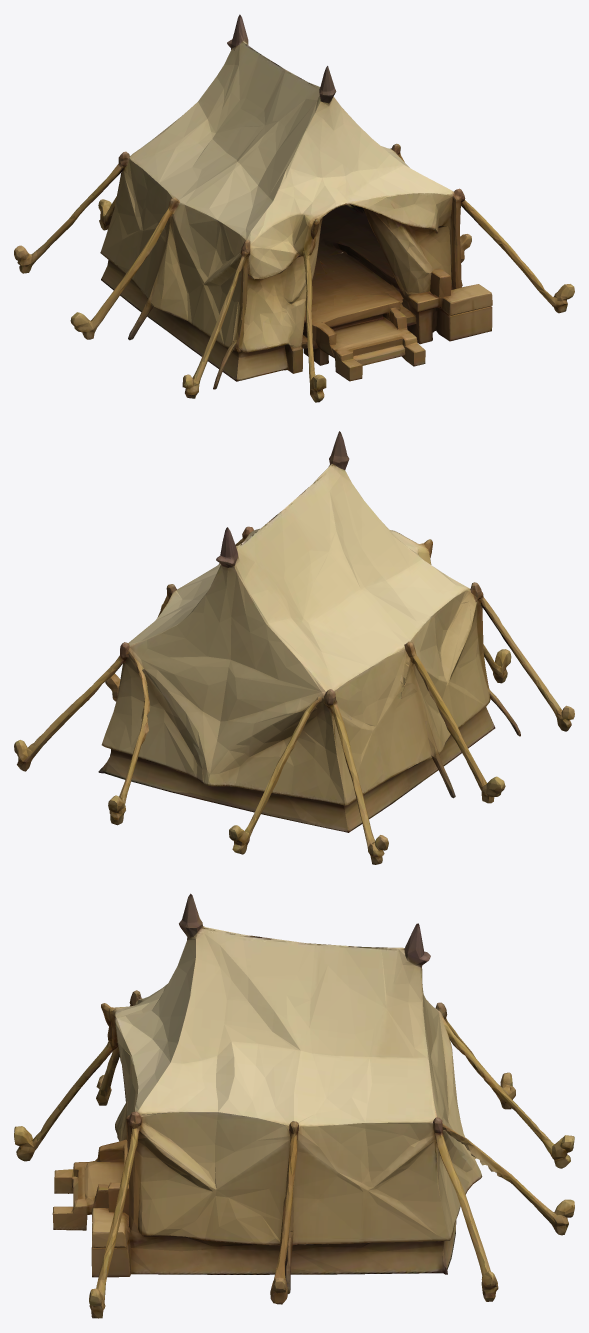
Rendered from safari_tent_variant.glb.
3 views of the same model, one above another, from view 1: azimuth 30°, elevation 25°; view 2: azimuth 150°, elevation 25°; view 3: azimuth 270°, elevation 25° (orthographic). The views are drawn at different scales.
Visible parts, largest first — view 1: world; view 2: world; view 3: world.
Part boxes in pixels (x1,y1,x2,y2): world: (14, 14, 574, 402); world: (14, 431, 574, 864); world: (14, 893, 574, 1318).
Size of the model in its own units: 0.994 by 0.6295 by 0.9981.
Materials: 1 (1 with a texture image).
